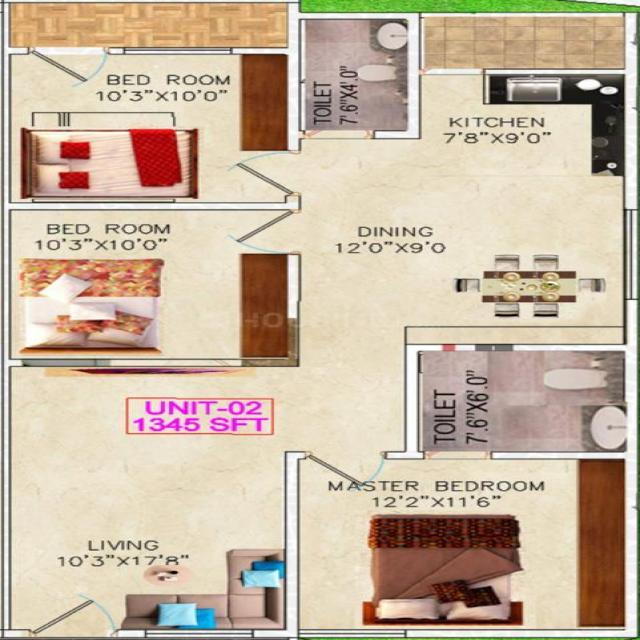Bedroom: (10, 211, 299, 368), (10, 51, 294, 208)
Bedroom with Toilet: (289, 347, 631, 634)
Enterance-Foyer: (11, 594, 124, 637)
Kitchen: (419, 73, 630, 179)
Living: (5, 370, 295, 637)
Toilet: (413, 347, 623, 448), (295, 14, 409, 137)
